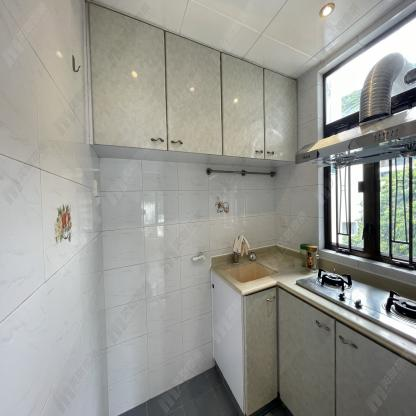Cupboard: (92, 5, 297, 160), (245, 290, 403, 416)
Exhaust Hood: (294, 53, 415, 166)
Faucet: (231, 233, 246, 265)
Sink: (222, 262, 279, 281)
Stove: (295, 268, 414, 343)
